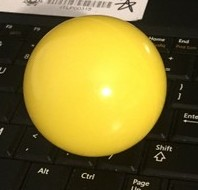ball: (23, 15, 168, 158)
